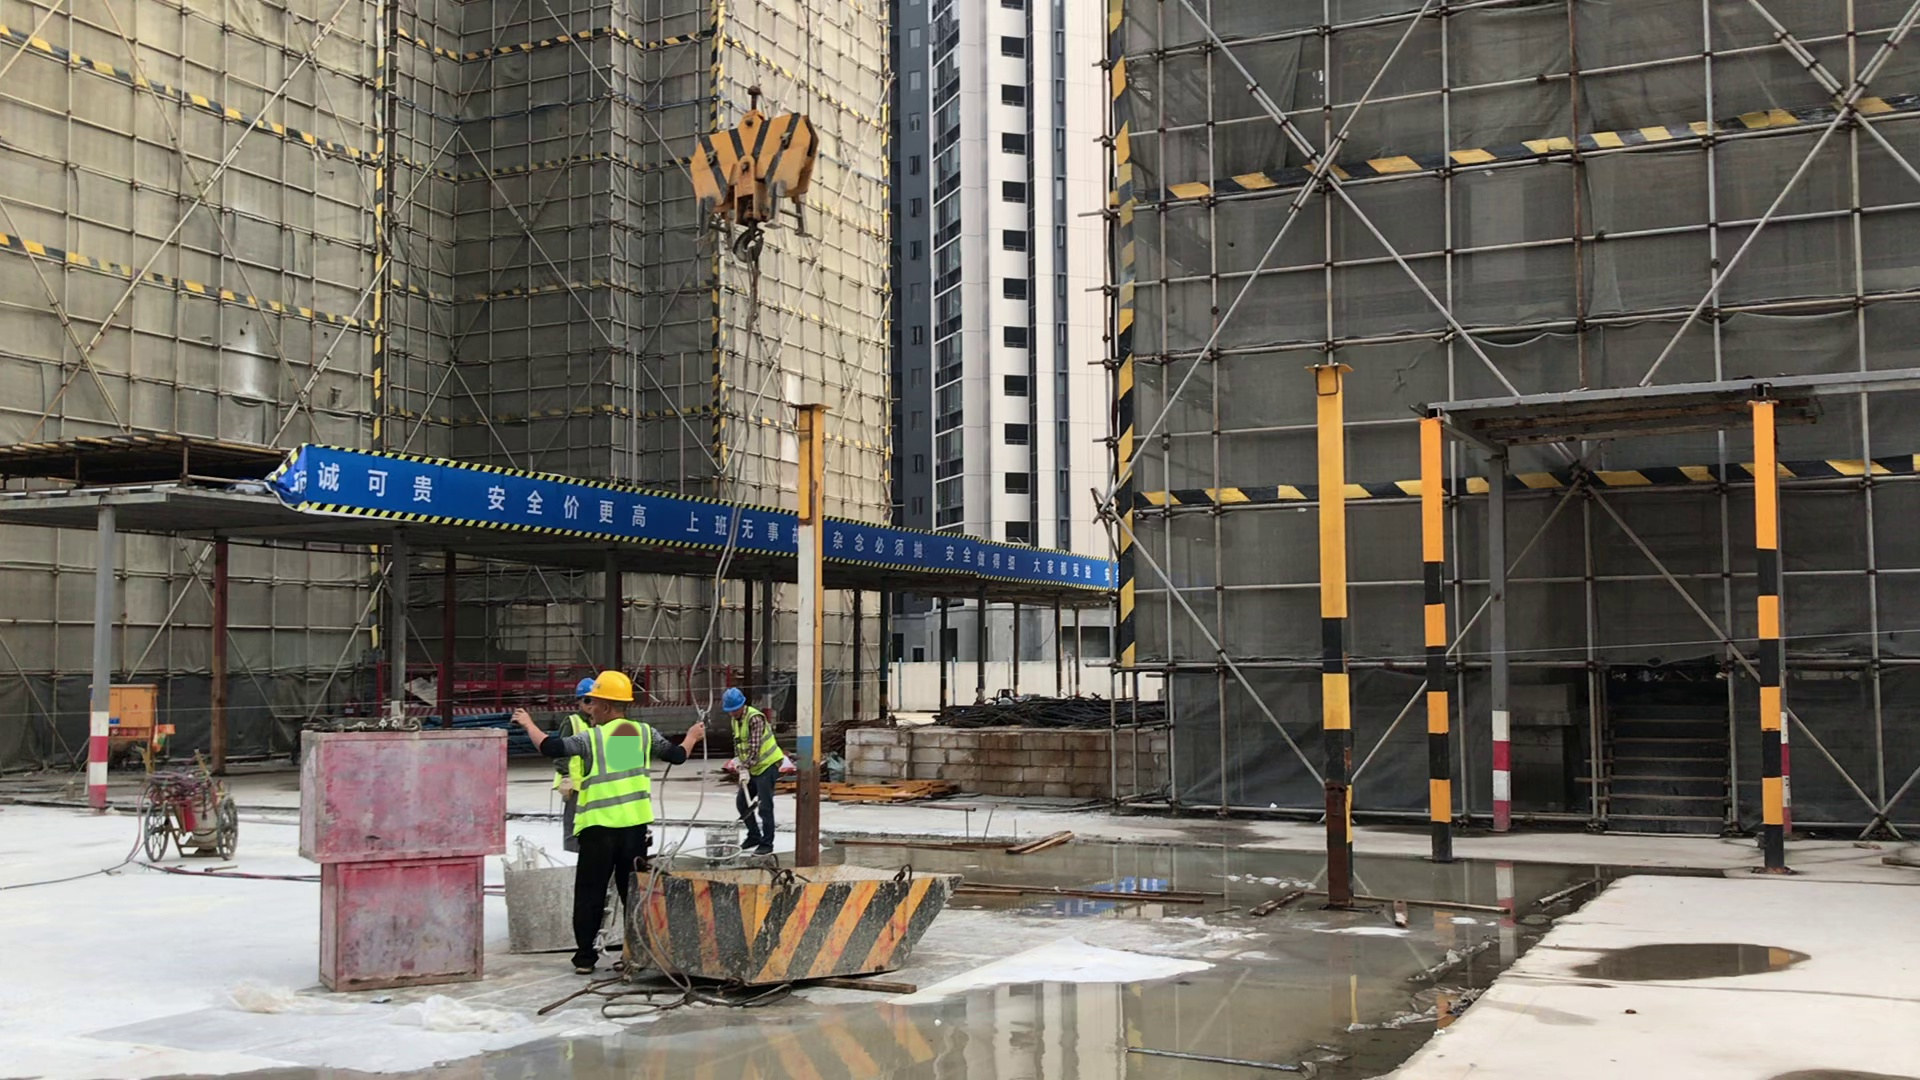brick: (845, 716, 1174, 811)
ebox: (81, 681, 167, 749)
handcart: (123, 750, 245, 872)
helmet: (588, 668, 640, 702), (719, 686, 748, 710), (573, 679, 595, 696)
hook: (678, 86, 820, 244)
hopper: (634, 852, 957, 993)
person: (508, 654, 712, 982), (708, 680, 801, 864), (549, 680, 596, 852)
slogan: (300, 426, 1112, 585)
vest: (583, 727, 655, 824), (734, 718, 779, 772), (565, 717, 585, 791)
